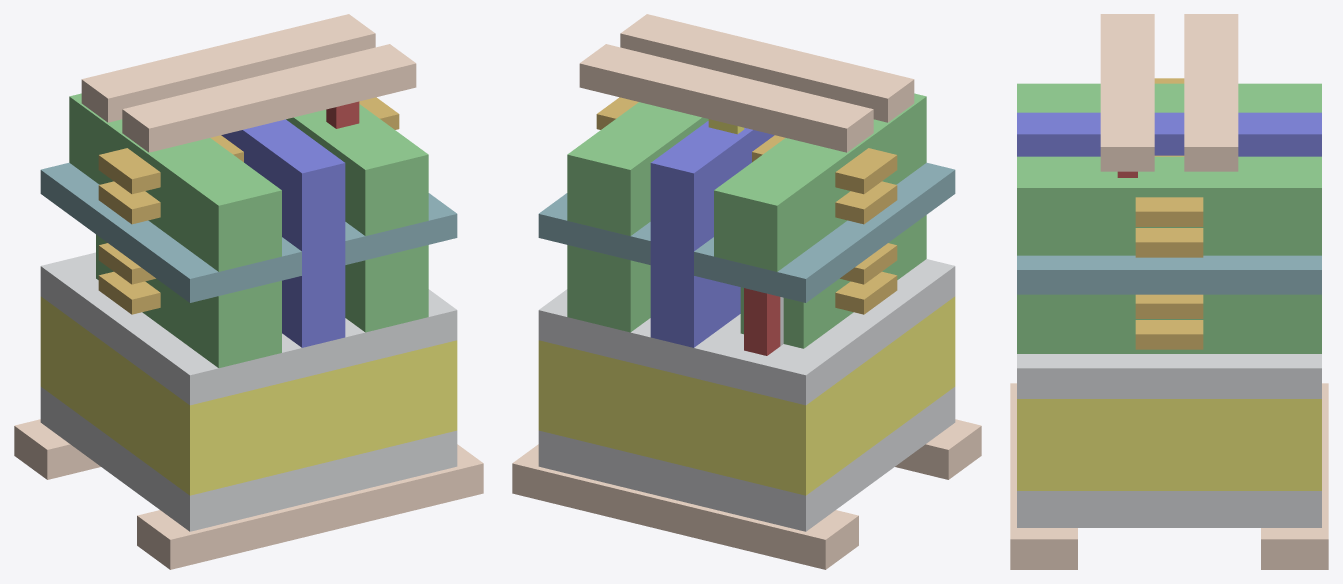
File: show_cfet.glb
The picture shows the model from 3 angles, left to right: view 1: azimuth 30°, elevation 25°; view 2: azimuth 150°, elevation 25°; view 3: azimuth 270°, elevation 25°; orthographic projection. The views are drawn at different scales.
Visible parts, largest first — view 1: nwell, fox, md_gnd, bild, po, m0_out, mdi, bm_vdd, m0_in, md_outt, md_vdd, md_outb (+7 smaller); view 2: nwell, fox, md_gnd, bild, po, m0_in, mdi, bm_gnd, m0_out, md_outt, md_outb, md_vdd (+7 smaller); view 3: nwell, md_outt, md_outb, fox, mdi, bild, po, m0_in, m0_out, md_gnd, bm_vdd, bm_gnd (+4 smaller).
Boxes of the visible parts, x1,y1,x2,y2 form: nwell: [40, 296, 457, 495]; fox: [40, 252, 457, 405]; md_gnd: [69, 93, 281, 271]; bild: [40, 387, 457, 531]; po: [221, 119, 345, 347]; m0_out: [122, 44, 416, 152]; mdi: [40, 162, 457, 302]; bm_vdd: [137, 444, 483, 569]; m0_in: [81, 14, 375, 122]; md_outt: [286, 104, 428, 235]; md_vdd: [96, 234, 281, 367]; md_outb: [345, 245, 428, 332]; nwell: [538, 296, 955, 495]; fox: [538, 259, 955, 405]; md_gnd: [714, 93, 926, 271]; bild: [538, 387, 955, 531]; po: [650, 121, 774, 347]; m0_in: [579, 44, 873, 152]; mdi: [538, 162, 955, 302]; bm_gnd: [512, 444, 858, 569]; m0_out: [620, 14, 914, 122]; md_outt: [567, 102, 708, 235]; md_outb: [567, 245, 650, 332]; md_vdd: [740, 215, 926, 348]; nwell: [1017, 399, 1321, 490]; md_outt: [1017, 156, 1321, 255]; md_outb: [1017, 294, 1321, 353]; fox: [1017, 354, 1321, 398]; mdi: [1017, 255, 1321, 294]; bild: [1017, 491, 1321, 527]; po: [1017, 112, 1321, 156]; m0_in: [1184, 14, 1238, 171]; m0_out: [1100, 14, 1154, 171]; md_gnd: [1017, 83, 1321, 112]; bm_vdd: [1010, 383, 1077, 569]; bm_gnd: [1261, 383, 1328, 569].
Size of the model in its own units: 109 by 134 by 94.
